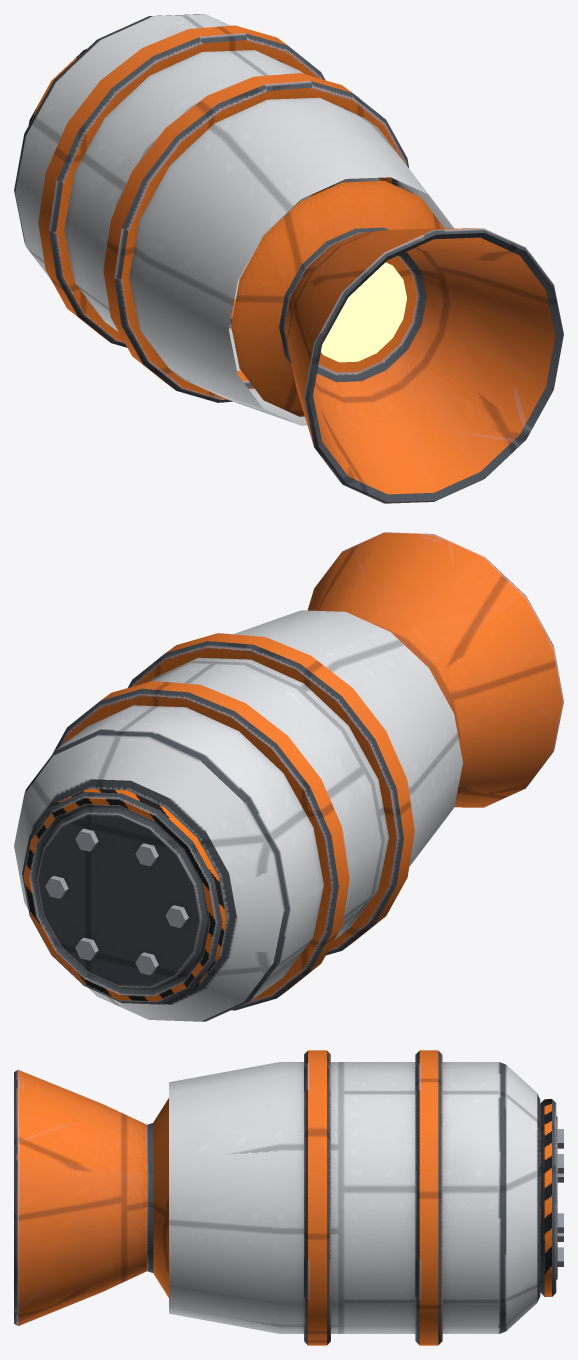
Rendered from motor_quimico_t2.fbx.
The picture shows the model from 3 angles, top to bottom: view 1: azimuth 30°, elevation 25°; view 2: azimuth 150°, elevation 25°; view 3: azimuth 270°, elevation 25°; orthographic projection. The views are drawn at different scales.
Visible parts, largest first — view 1: motor_quimico_t2, motor_quimico_t2_neon; view 2: motor_quimico_t2; view 3: motor_quimico_t2.
Boxes of the visible parts, bbox=[...] form: motor_quimico_t2: bbox=[14, 14, 563, 503]; motor_quimico_t2_neon: bbox=[321, 262, 406, 362]; motor_quimico_t2: bbox=[14, 532, 563, 1021]; motor_quimico_t2: bbox=[14, 1050, 563, 1345].
Size of the model in its own units: 2.4 by 2.4 by 4.44.
